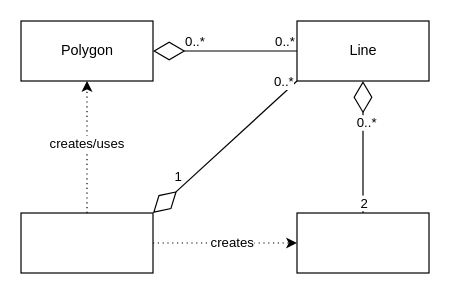
This 450x294 diagram has some shape labels left out. The shapes that lost their labels are listed below. From the top down, each one's centre as x and y in pixels, then its label:
At point (86, 242): "Drawing".
At point (362, 242): "Point".
